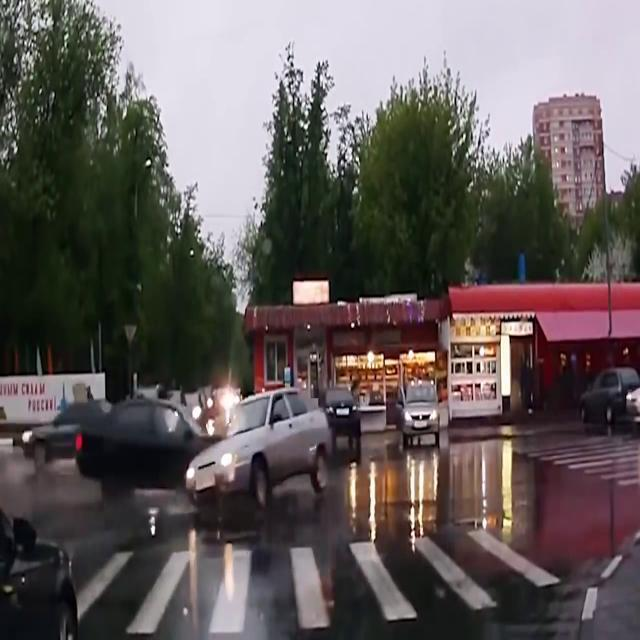accident: (79, 383, 338, 523)
